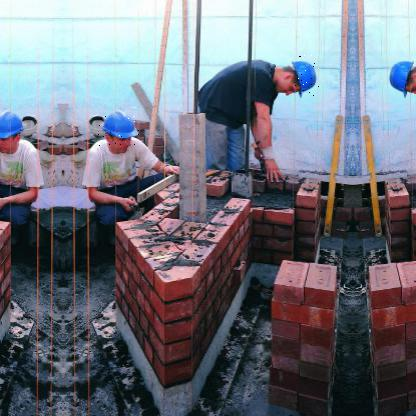safetyhelmet: (98, 106, 142, 147), (292, 54, 320, 99)
